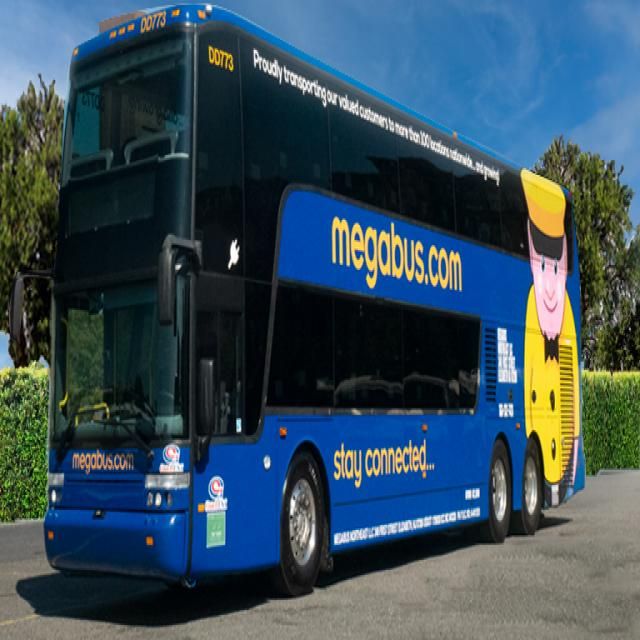bus: (46, 7, 595, 606)
